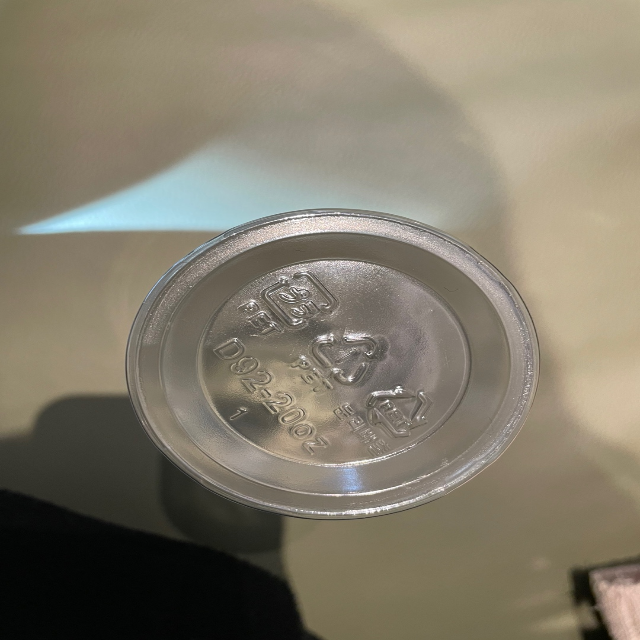pet: (240, 269, 342, 342), (333, 385, 439, 453), (289, 331, 394, 396)
